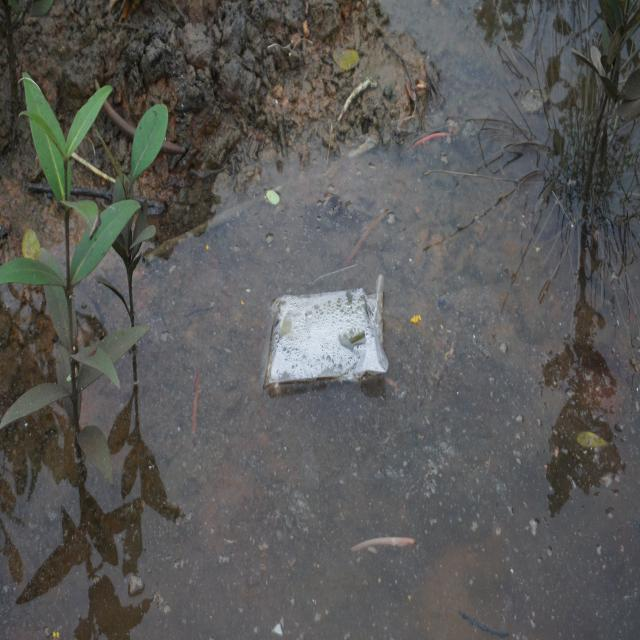Kantong Plastik: (267, 270, 395, 401)
